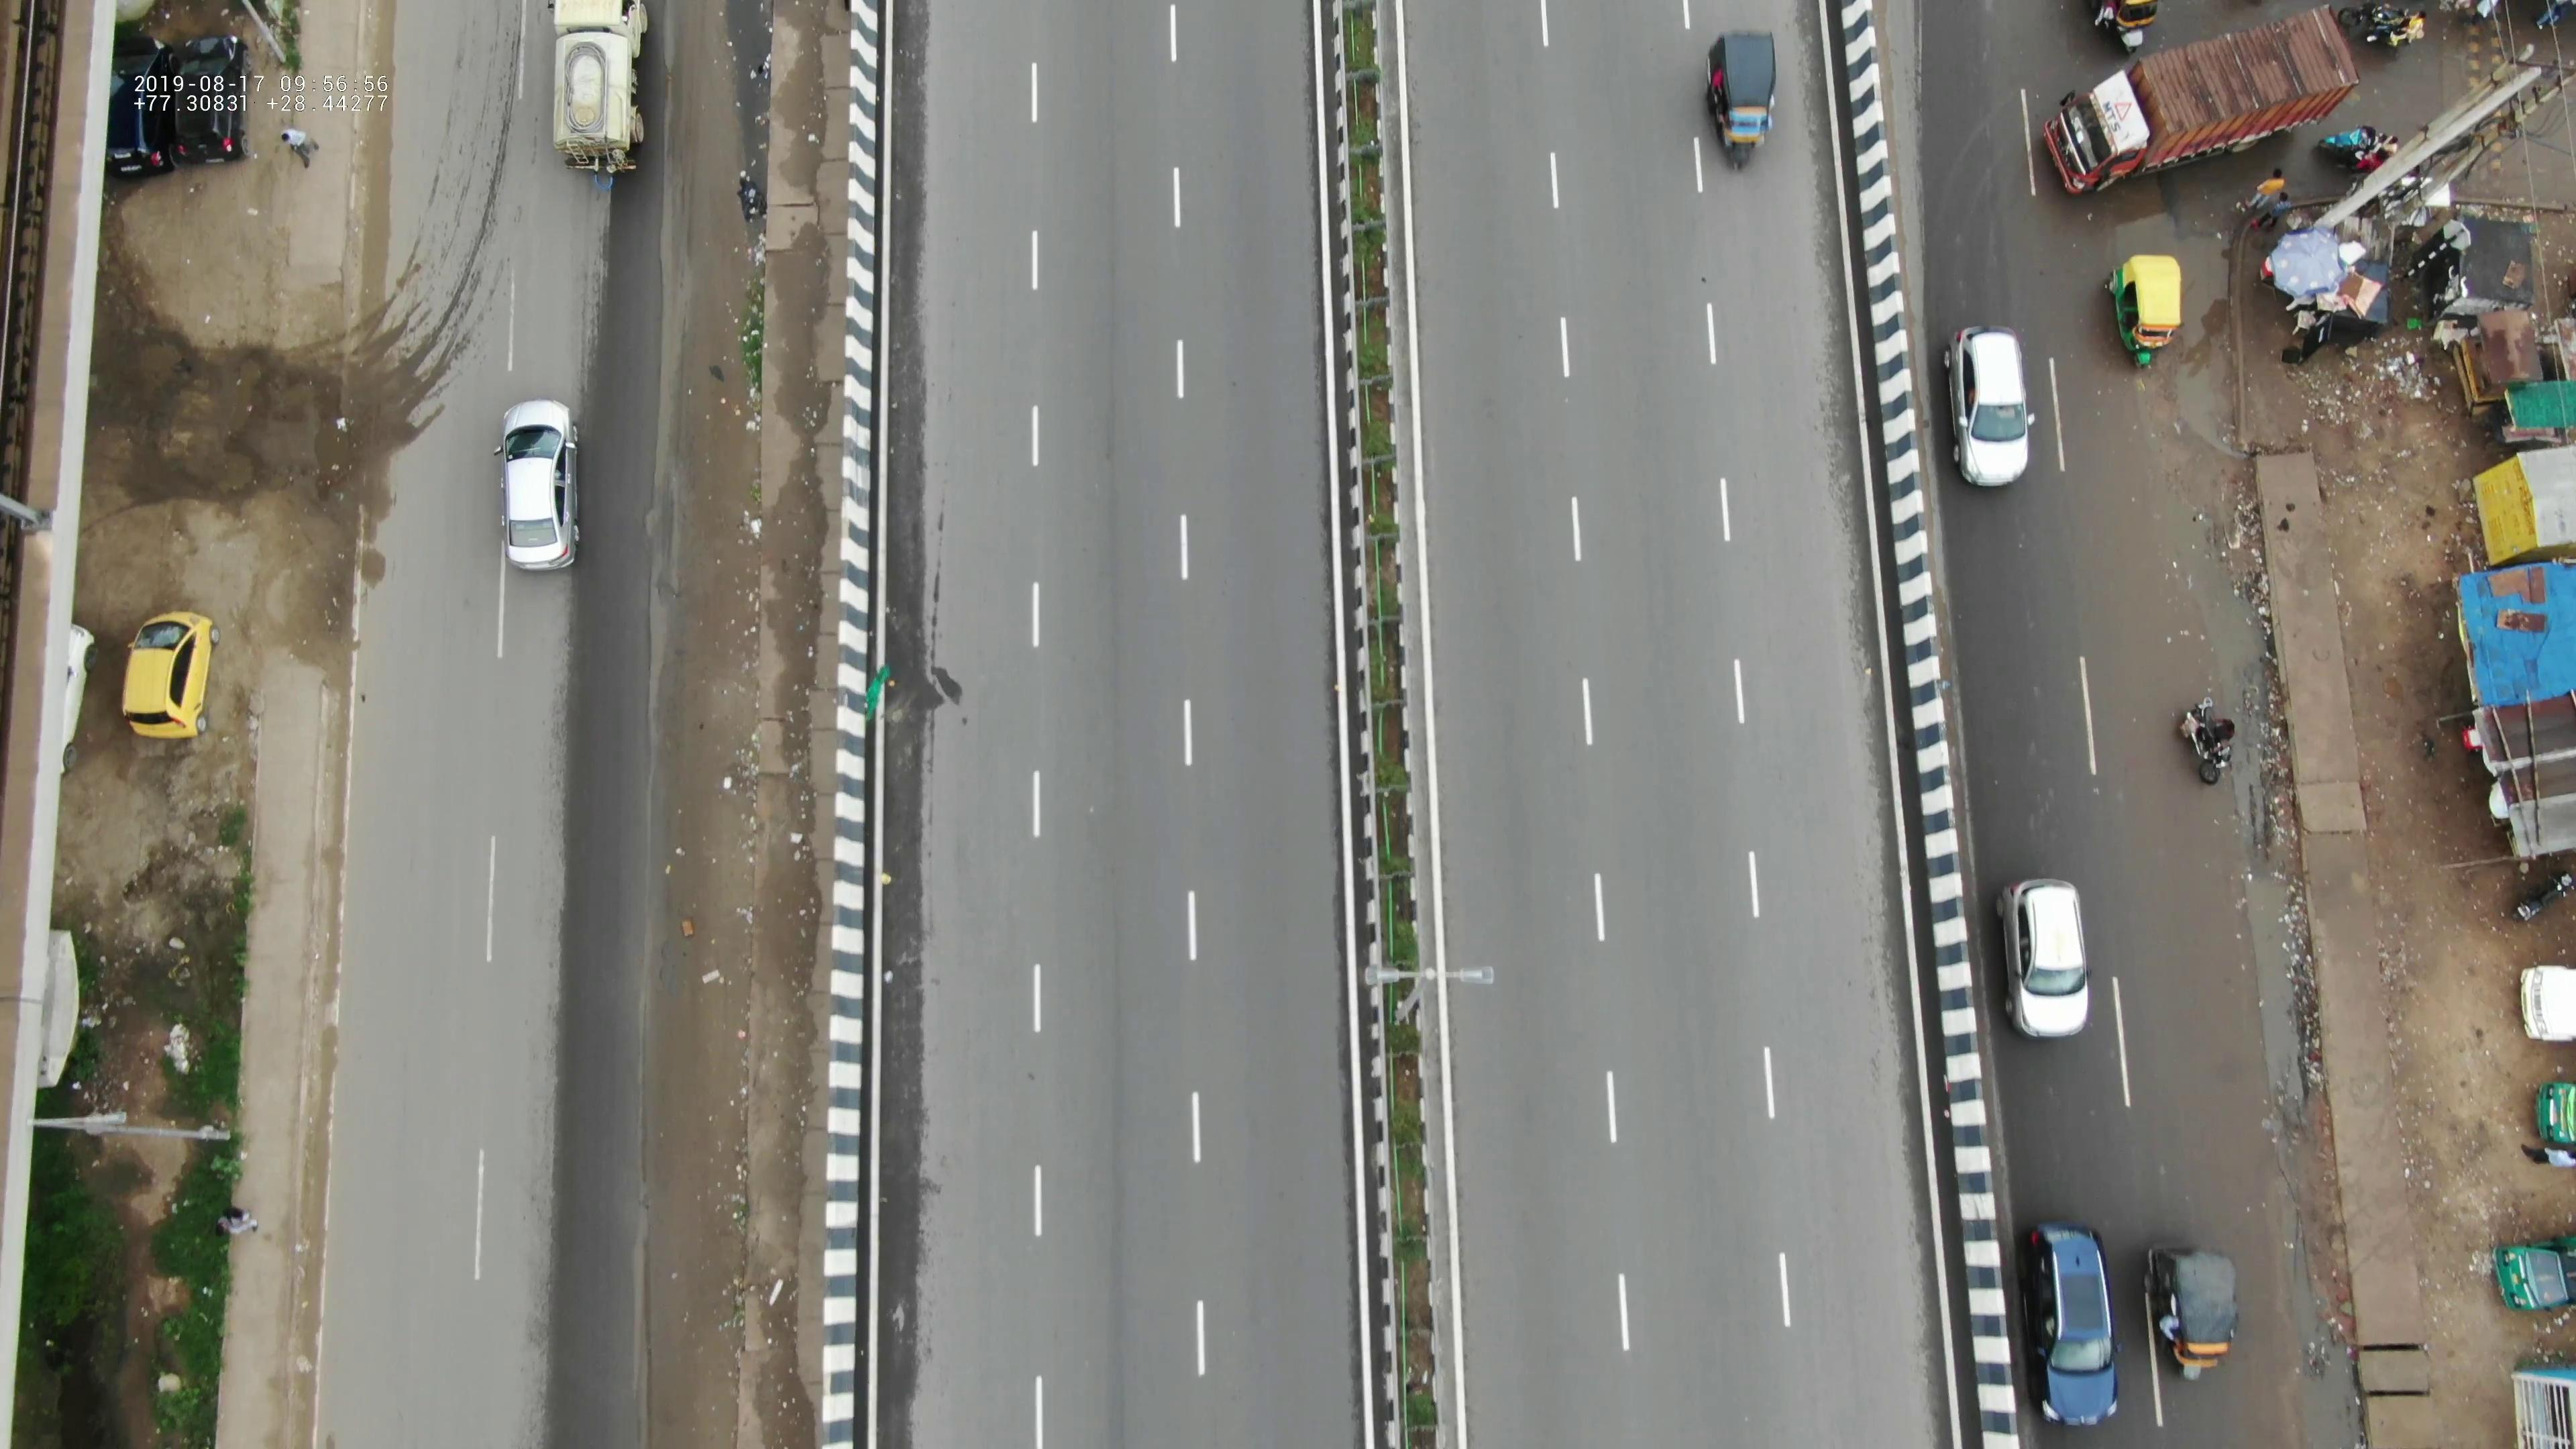Waterlogging: (2174, 506, 2335, 1083), (2265, 1279, 2365, 1447)
